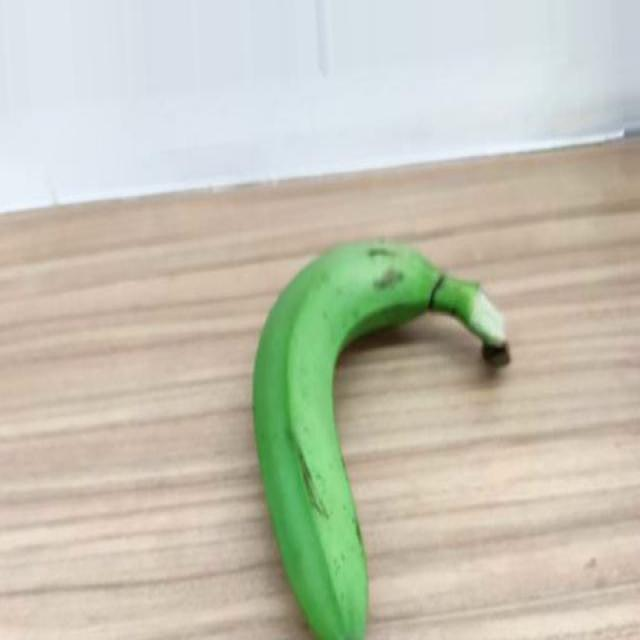Unripe: (250, 237, 511, 640)
